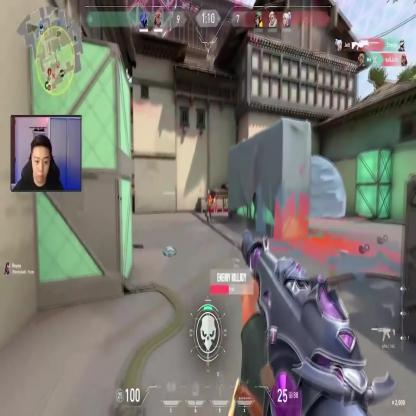enemy: (204, 188, 212, 225)
enemy_head: (207, 188, 210, 194)
